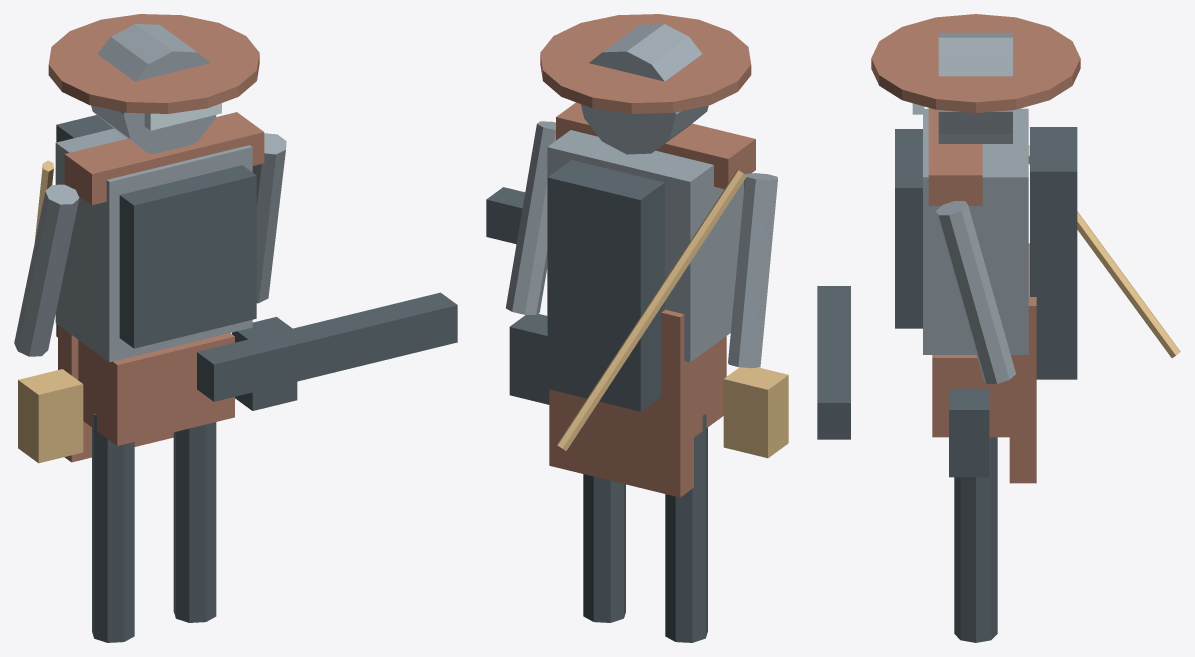
The model's file is ranger-operator-v1.glb.
3 renders of one model, left to right at view 1: azimuth 30°, elevation 25°; view 2: azimuth 150°, elevation 25°; view 3: azimuth 270°, elevation 25°, orthographic.
Parts seen in each view (by area): view 1: torso:vest, weapon:marksman-rifle, torso:chest, head:ranger-brim, hips:pelvis, leftLeg:boot, rightLeg:boot, head:helmet, torso:rust-scarf, leftArm:upper, hipMount:left, rightArm:upper (+4 smaller); view 2: backMount:pack, torso:chest, torso:coat-tail, head:ranger-brim, head:helmet, leftLeg:boot, leftArm:upper, rightLeg:boot, hipMount:left, rightArm:upper, torso:rust-scarf, backMount:rifle-sling (+3 smaller); view 3: torso:chest, head:ranger-brim, backMount:pack, rightLeg:boot, rightArm:upper, head:helmet, torso:vest, weapon:marksman-rifle, torso:coat-tail, hips:pelvis, torso:rust-scarf, hipMount:right (+1 smaller).
Part boxes in pixels (x1,y1,x2,y2): torso:vest: (119,165,256,348); weapon:marksman-rifle: (197,292,457,401); torso:chest: (55,128,252,362); head:ranger-brim: (48,14,259,113); hips:pelvis: (78,333,234,445); leftLeg:boot: (92,413,134,642); rightLeg:boot: (173,422,216,622); head:helmet: (91,24,216,153); torso:rust-scarf: (64,112,264,205); leftArm:upper: (14,184,79,356); hipMount:left: (18,369,83,463); rightArm:upper: (252,133,286,303); backMount:pack: (547,160,664,411); torso:chest: (547,130,743,362); torso:coat-tail: (549,309,693,497); head:ranger-brim: (540,14,751,113); head:helmet: (581,24,708,154); leftLeg:boot: (665,413,707,642); leftArm:upper: (728,173,777,368); rightLeg:boot: (583,474,625,622); hipMount:left: (723,367,788,458); rightArm:upper: (506,121,555,314); torso:rust-scarf: (556,102,755,189); backMount:rifle-sling: (557,169,746,450); torso:chest: (923,108,1028,354); head:ranger-brim: (871,14,1080,112); backMount:pack: (1030,127,1077,379); rightLeg:boot: (954,437,997,642); rightArm:upper: (935,201,1015,383); head:helmet: (938,32,1012,143); torso:vest: (895,129,922,328); weapon:marksman-rifle: (817,286,850,439); torso:coat-tail: (1009,243,1036,483); hips:pelvis: (932,355,1009,437); torso:rust-scarf: (928,108,982,205); hipMount:right: (949,388,989,477).
Bounding box in the file's own units: 1.19 × 1.88 × 1.08.
